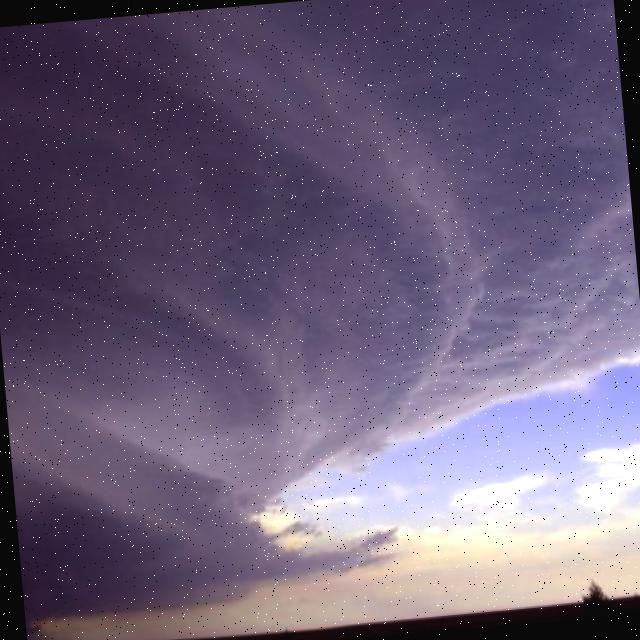Cb: (1, 1, 546, 640)
